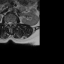CCS_normal: (9, 20, 11, 28)
LFS_normal: (12, 20, 14, 25)
LLS_normal: (11, 21, 12, 25)
RFS_normal: (6, 20, 8, 25)
RLS_normal: (8, 20, 9, 25)
